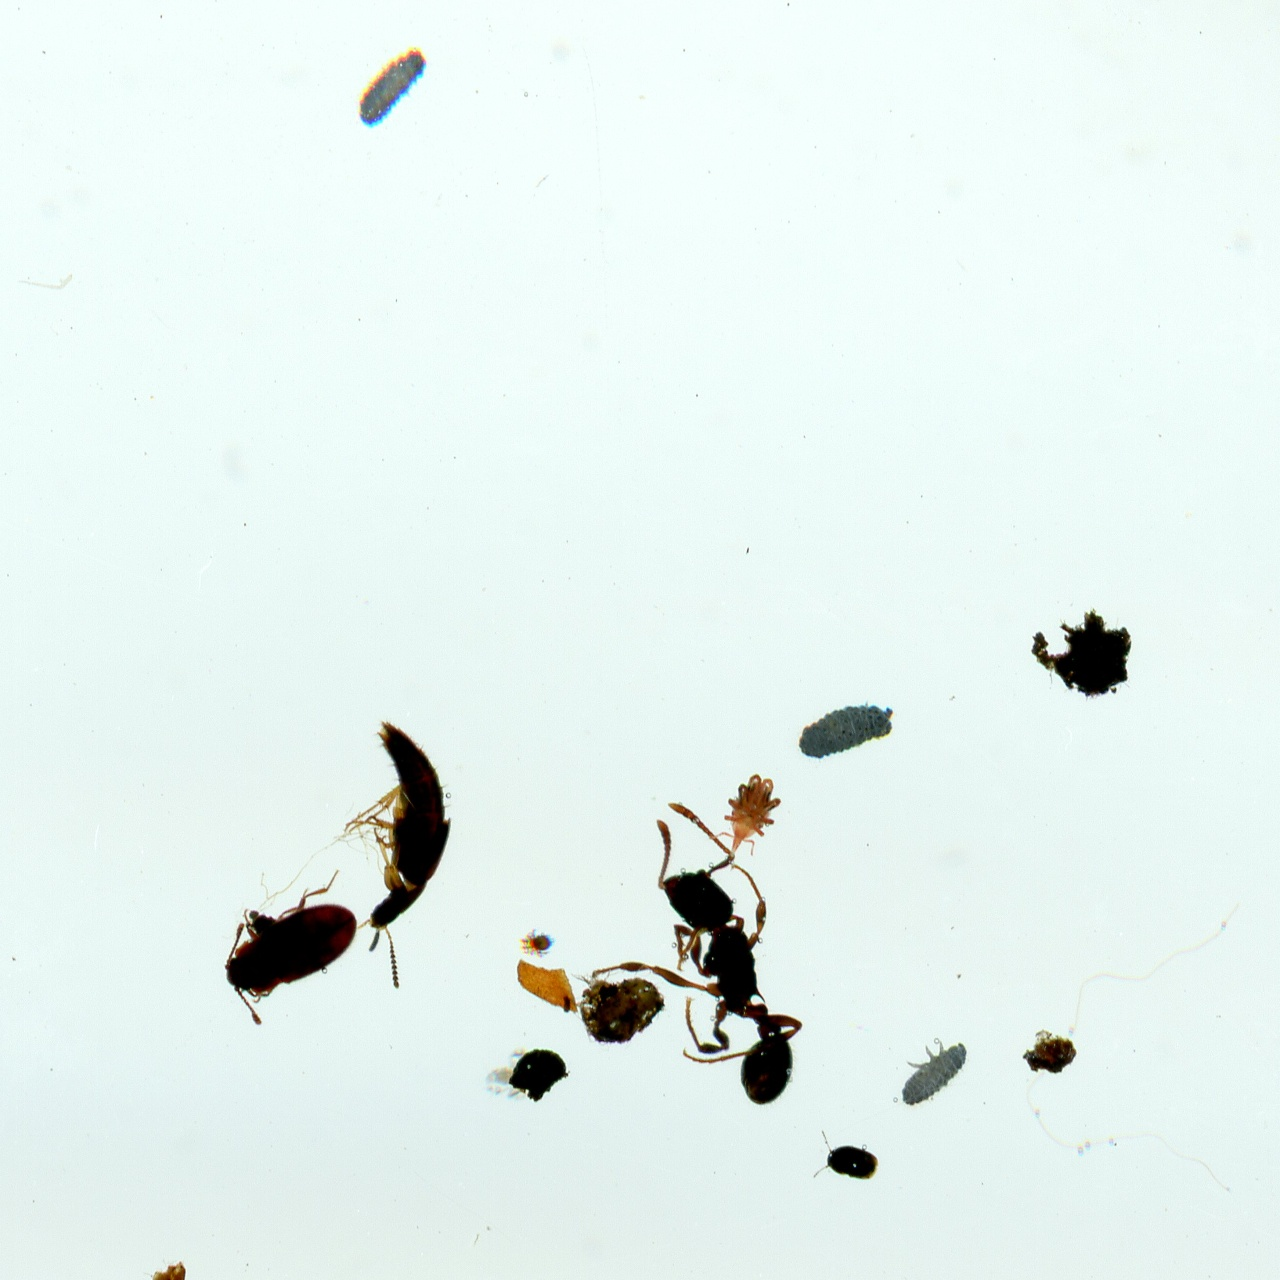arthropod: (584, 801, 804, 1110), (191, 854, 391, 1037), (339, 716, 454, 993), (337, 28, 441, 145), (880, 1021, 982, 1117), (710, 762, 790, 864), (795, 699, 900, 760), (812, 1130, 879, 1180), (516, 926, 558, 961)
